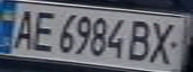4: (106, 16, 133, 61)
6: (54, 11, 78, 55)
8: (90, 15, 112, 57)
9: (72, 12, 93, 56)
A: (6, 7, 39, 51)
B: (124, 17, 157, 63)
E: (27, 7, 60, 53)
X: (142, 17, 187, 65)
